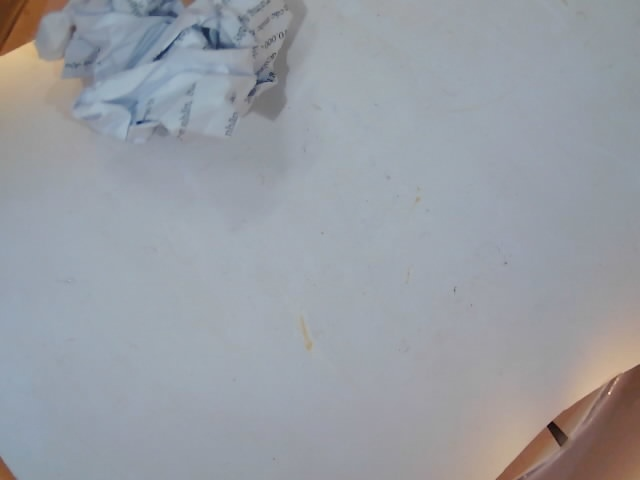paper: (33, 0, 353, 166)
